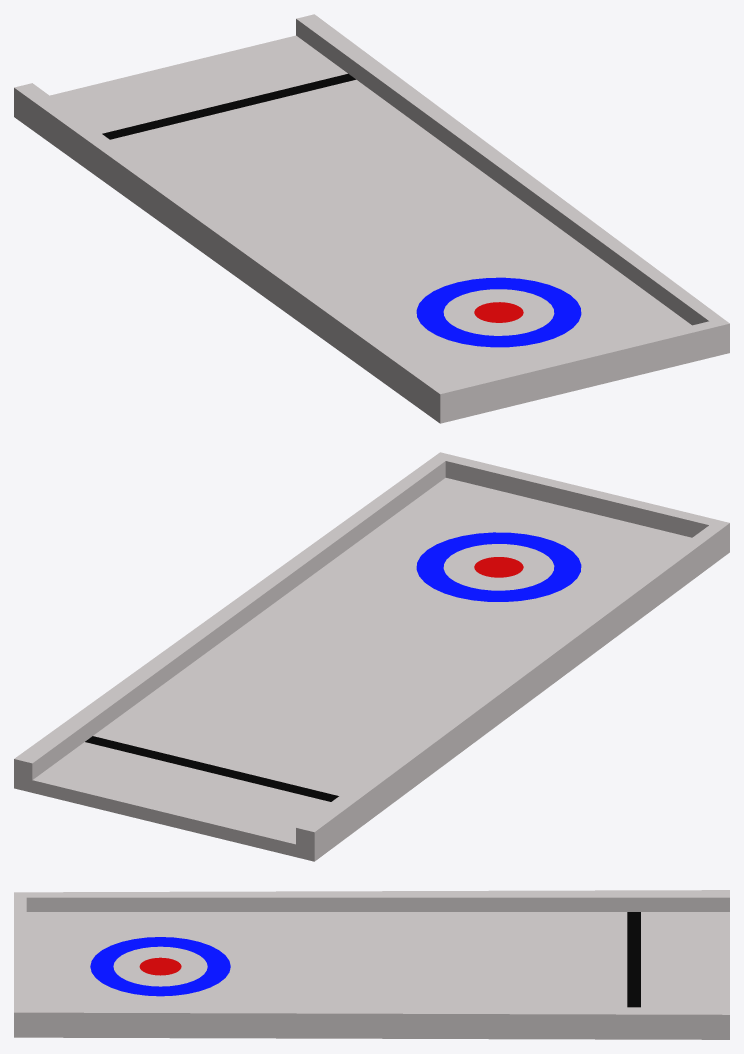
The model's file is curlingfieldv8.fbx.
3 renders of one model, top to bottom at view 1: azimuth 30°, elevation 25°; view 2: azimuth 150°, elevation 25°; view 3: azimuth 270°, elevation 25°, orthographic. The views are drawn at different scales.
Parts seen in each view (by area): view 1: Circle; view 2: Circle; view 3: Circle.
Boxes of the visible parts, x1,y1,x2,y2 form: Circle: [14, 14, 729, 423]; Circle: [14, 452, 729, 861]; Circle: [14, 890, 729, 1039].
Bounding box in the file's own units: 1855 × 174 × 4498.
